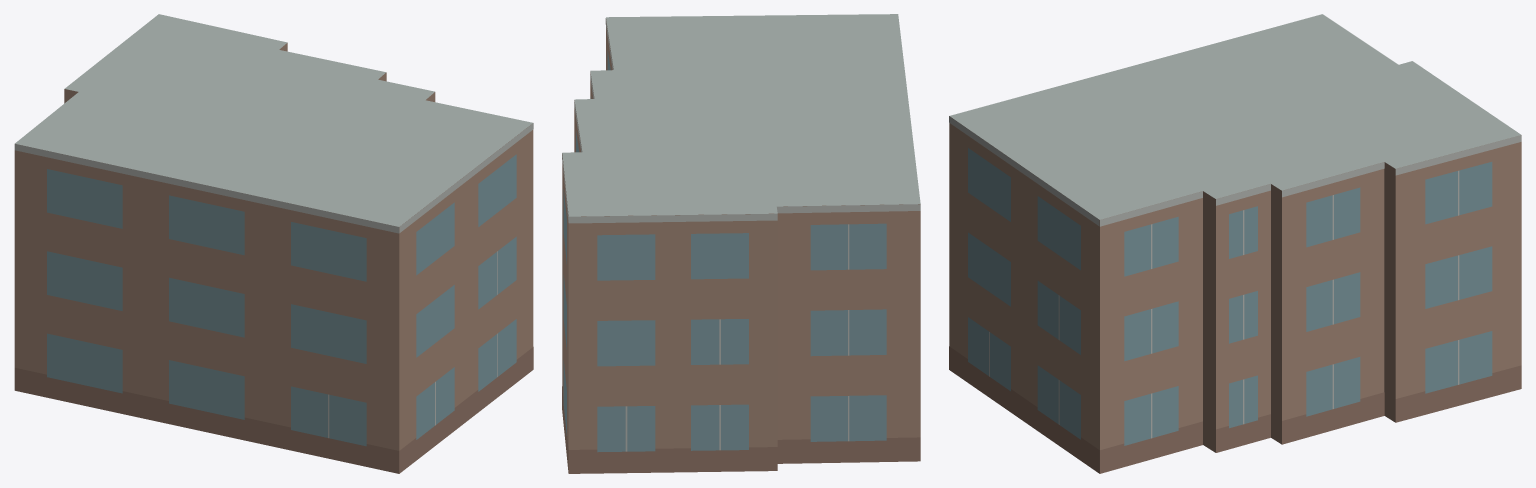
The model's file is survey-upis-32815110.glb.
The picture shows the model from 3 angles, left to right: view 1: azimuth 30°, elevation 25°; view 2: azimuth 150°, elevation 25°; view 3: azimuth 270°, elevation 25°; orthographic projection. The views are drawn at different scales.
Parts seen in each view (by area): view 1: survey-upis-32815110.tmp; view 2: survey-upis-32815110.tmp; view 3: survey-upis-32815110.tmp.
Part boxes in pixels (<box>): survey-upis-32815110.tmp: <box>14,14,533,473</box>; survey-upis-32815110.tmp: <box>562,14,920,473</box>; survey-upis-32815110.tmp: <box>949,14,1521,473</box>.
Bounding box in the file's own units: 15.93 × 9.15 × 18.7.
